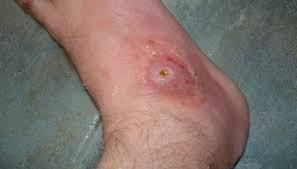Spider: (132, 39, 219, 110)
